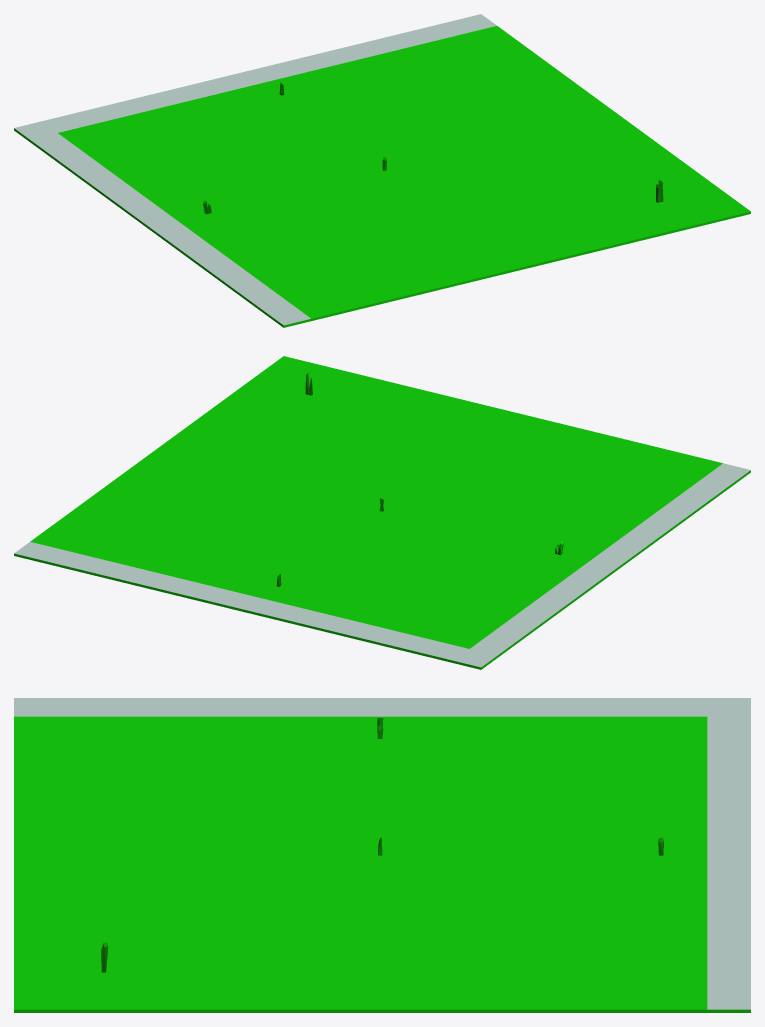
File: foundation.fbx
3 views of the same model, one above another, from view 1: azimuth 30°, elevation 25°; view 2: azimuth 150°, elevation 25°; view 3: azimuth 270°, elevation 25° (orthographic). The views are drawn at different scales.
Parts seen in each view (by area): view 1: Cube; view 2: Cube; view 3: Cube.
Boxes of the visible parts, left/top/right/bottom form: Cube: left=14, top=14, right=750, bottom=327; Cube: left=14, top=356, right=750, bottom=669; Cube: left=14, top=698, right=750, bottom=1012.
Bounding box in the file's own units: 16 × 0.7585 × 16.
